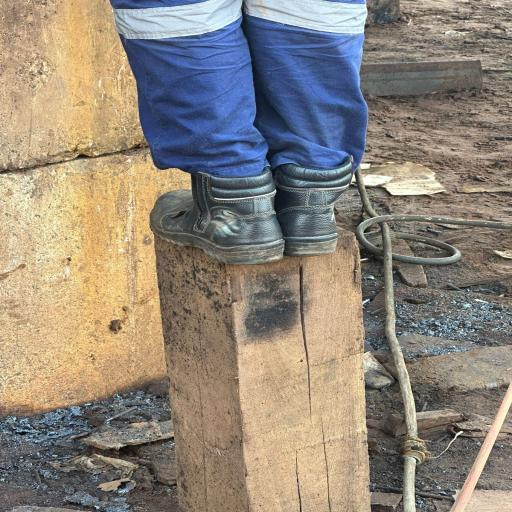safety_shoe: (147, 176, 282, 264), (278, 169, 358, 253)
